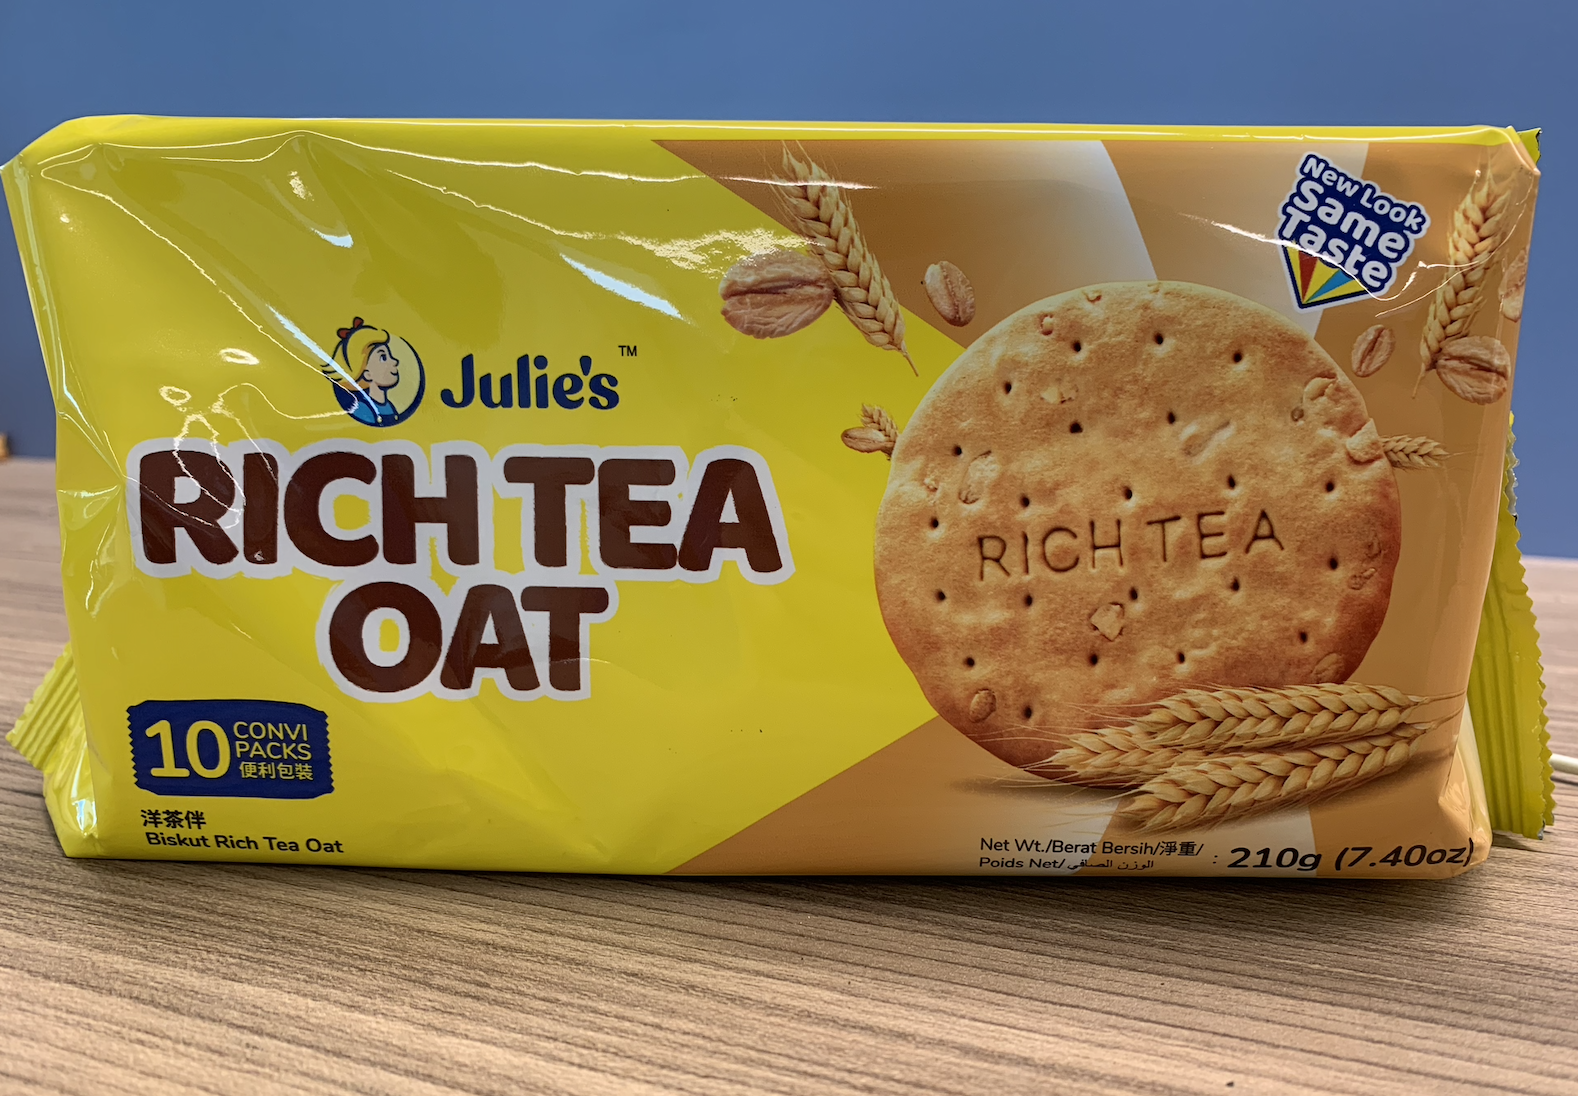cookies_150g: (68, 153, 1501, 871)
